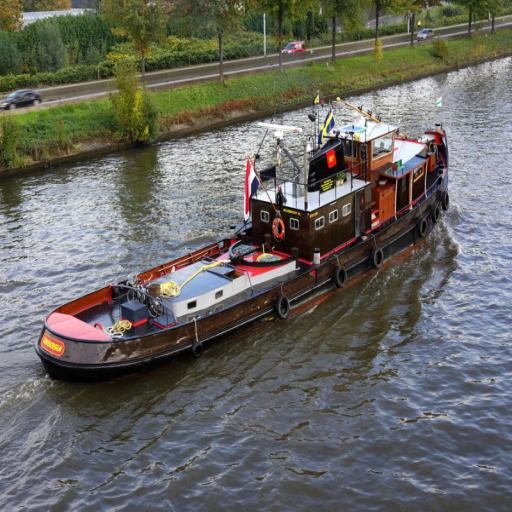tugboat: (32, 94, 455, 391)
